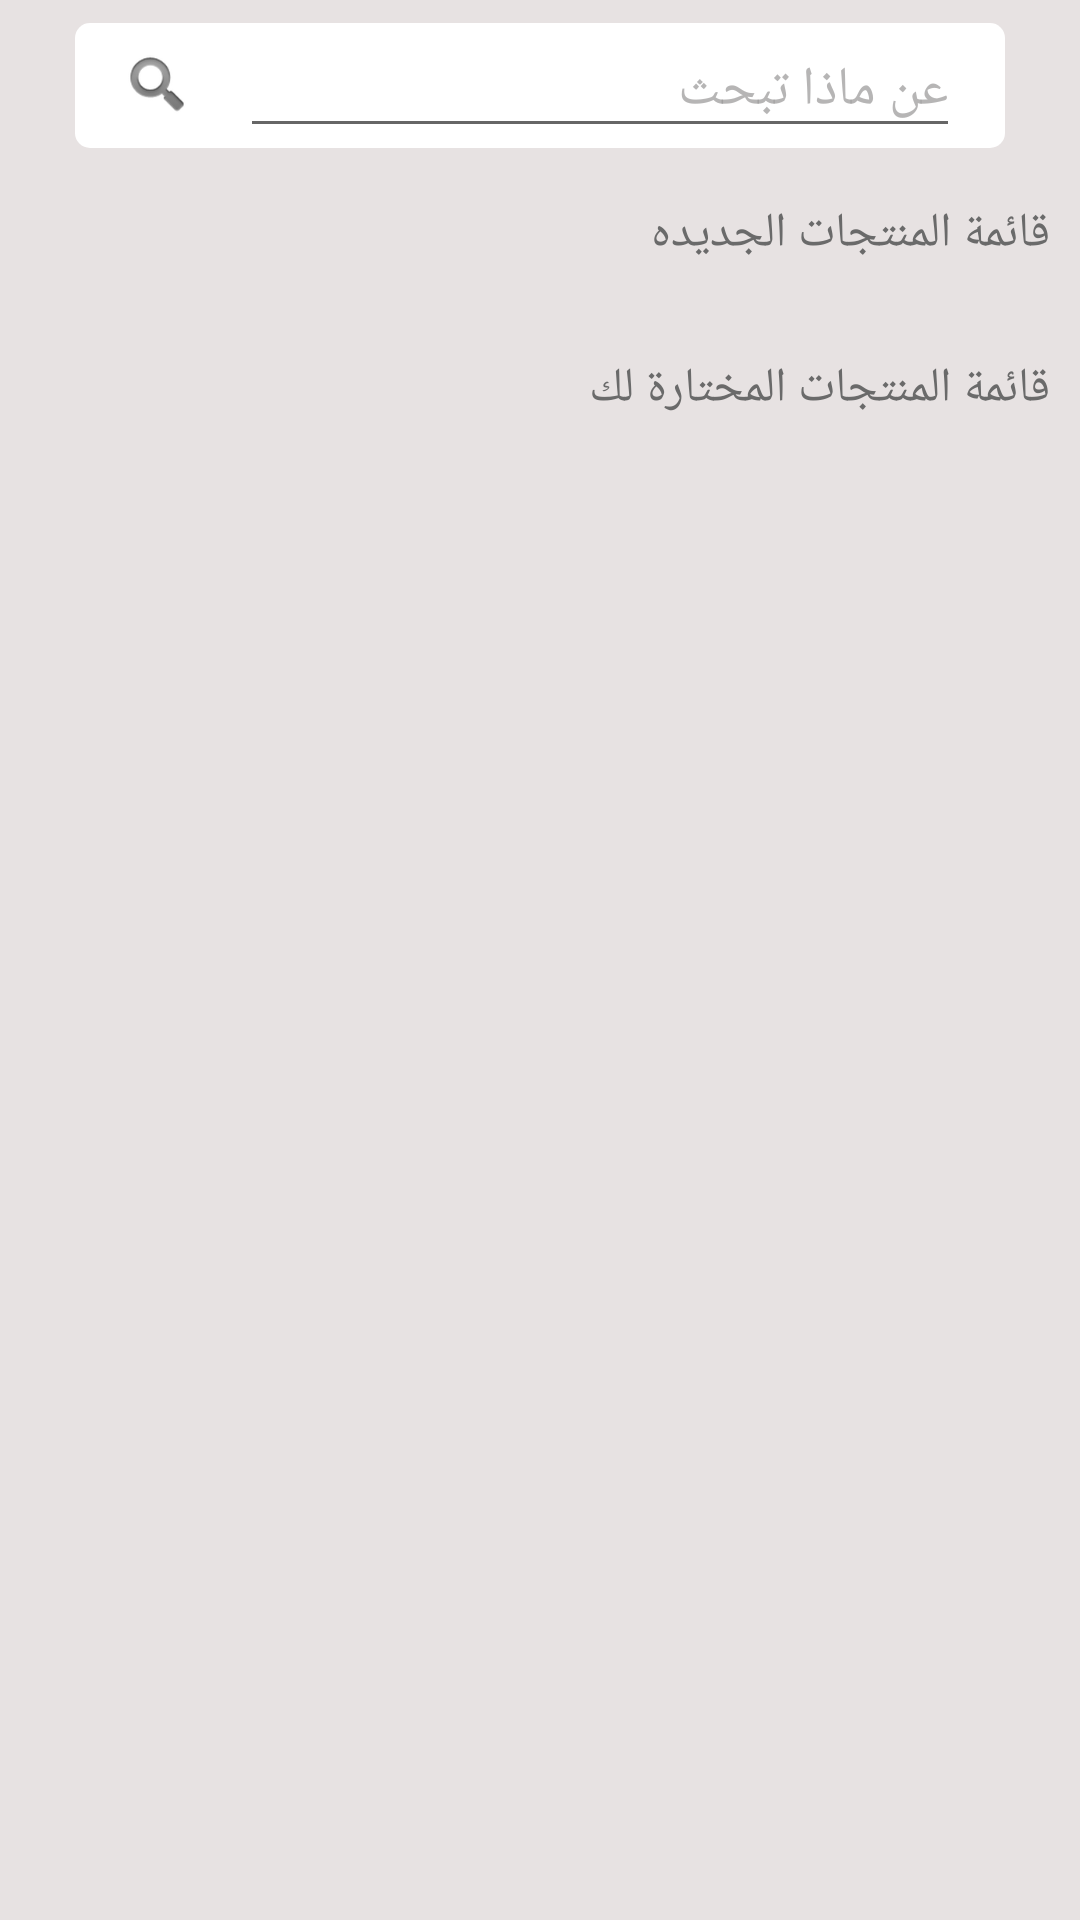

Icon click points for this 1080*1920 phone screenshot, format (x,y):
search category: (157,84)
